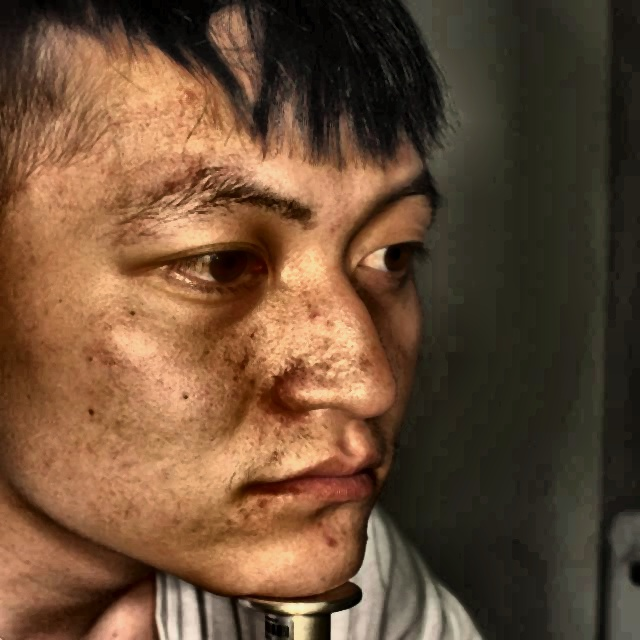comedone: (318, 529, 350, 550), (307, 300, 331, 326)
